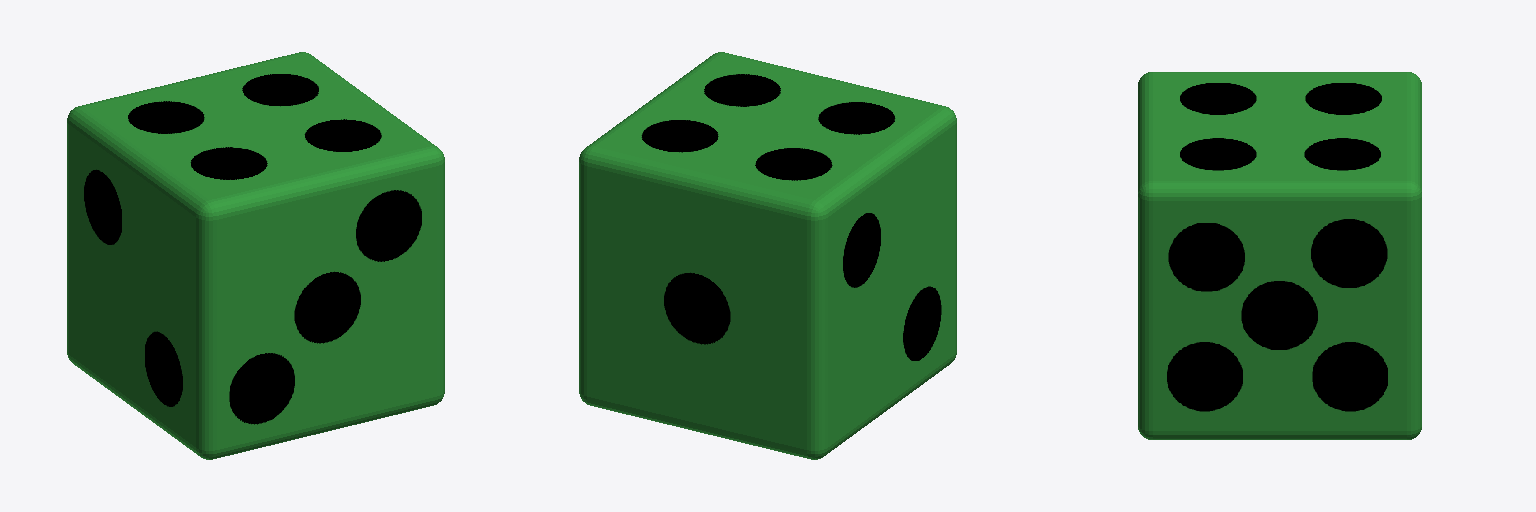
3 views of the same model, side by side, from view 1: azimuth 30°, elevation 25°; view 2: azimuth 150°, elevation 25°; view 3: azimuth 270°, elevation 25° (orthographic).
Visible parts, largest first — view 1: Cube; view 2: Cube; view 3: Cube.
Boxes of the visible parts, x1=… form: Cube: x1=67, y1=52, x2=444, y2=459; Cube: x1=579, y1=52, x2=956, y2=459; Cube: x1=1138, y1=72, x2=1421, y2=439.
Size of the model in its own units: 20 by 20 by 20.
1 materials, 1 textured.